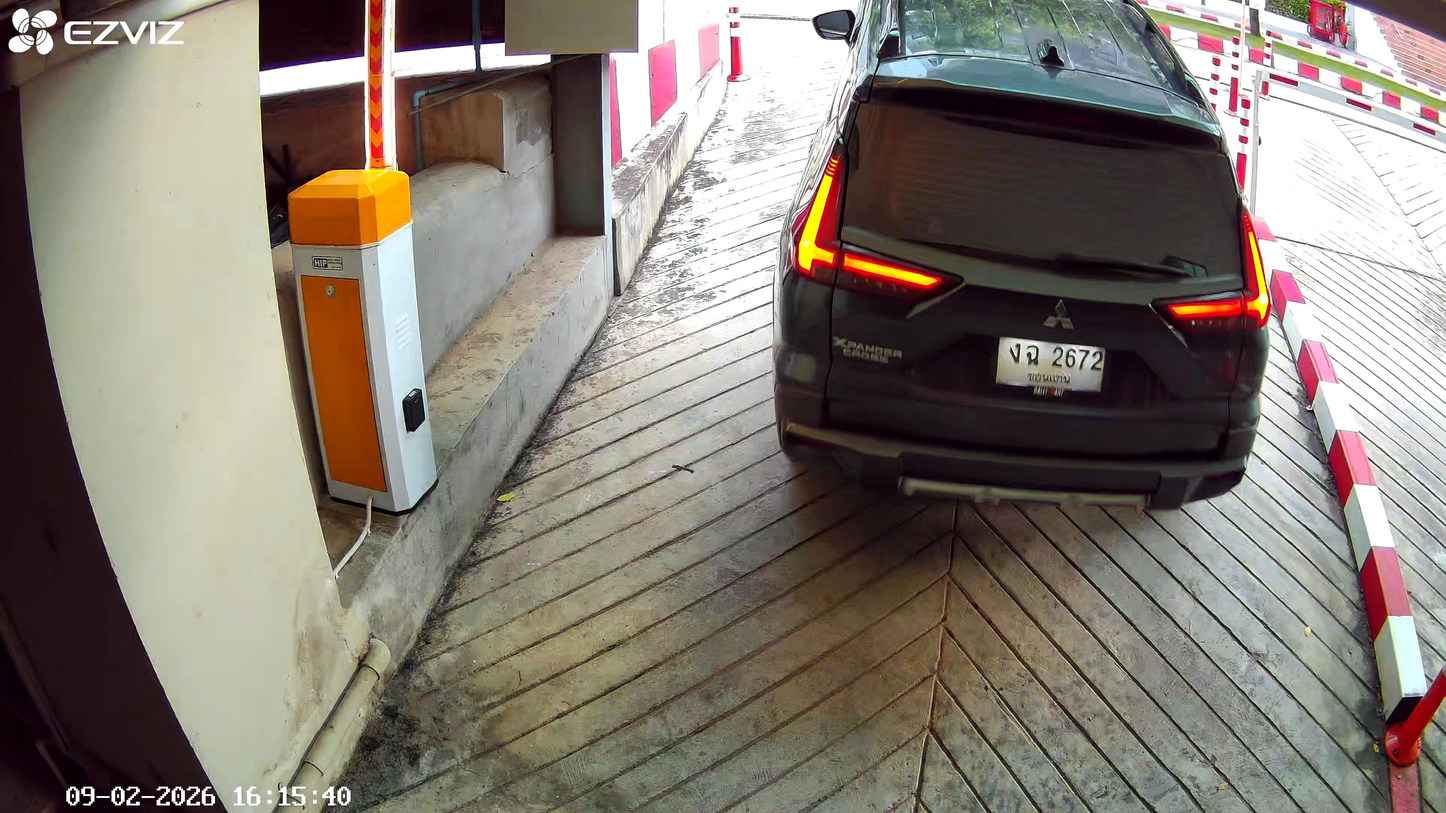car: (769, 11, 1272, 518)
license-plate: (991, 332, 1110, 396)
